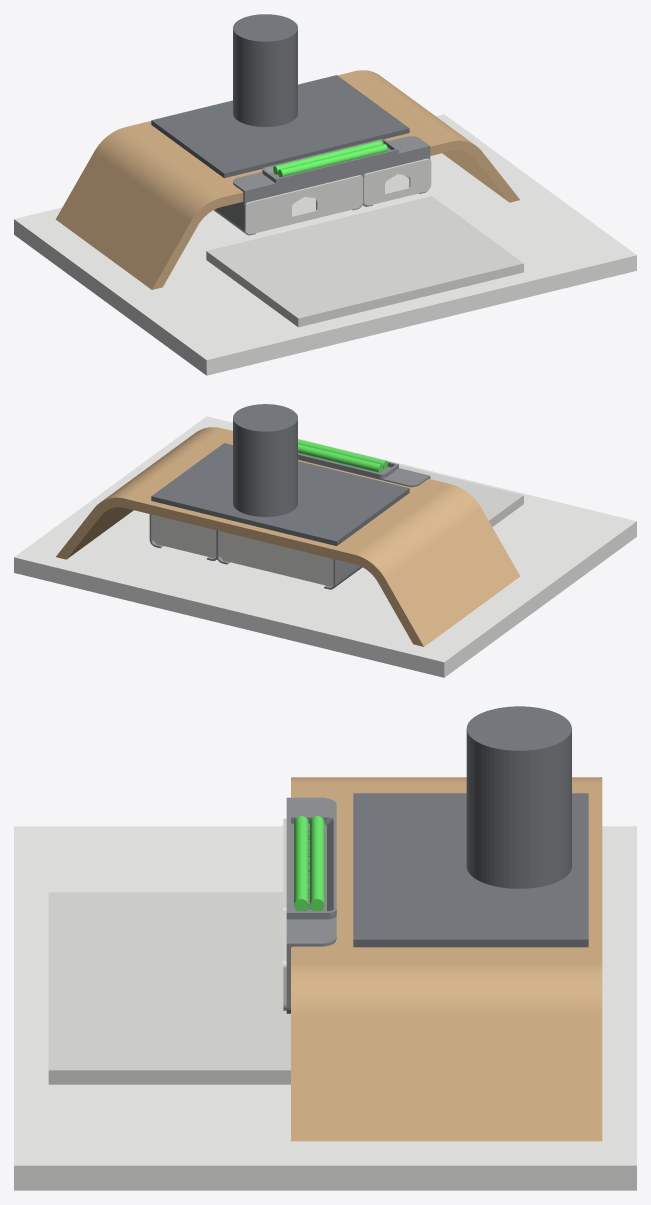
The model's file is larc_hq_cerrada.glb.
The picture shows the model from 3 angles, top to bottom: view 1: azimuth 30°, elevation 25°; view 2: azimuth 150°, elevation 25°; view 3: azimuth 270°, elevation 25°; orthographic projection. The views are drawn at different scales.
Visible parts, largest first — view 1: larc_hq_cerrada.glb_1, larc_hq_cerrada.glb_2, larc_hq_cerrada.glb_0, larc_hq_cerrada.glb_3, larc_hq_cerrada.glb_4, larc_hq_cerrada.glb_5, larc_hq_cerrada.glb_6, larc_hq_cerrada.glb_7, larc_hq_cerrada.glb_8, larc_hq_cerrada.glb_9; view 2: larc_hq_cerrada.glb_1, larc_hq_cerrada.glb_0, larc_hq_cerrada.glb_3, larc_hq_cerrada.glb_4, larc_hq_cerrada.glb_6, larc_hq_cerrada.glb_5, larc_hq_cerrada.glb_7, larc_hq_cerrada.glb_2, larc_hq_cerrada.glb_9, larc_hq_cerrada.glb_8; view 3: larc_hq_cerrada.glb_1, larc_hq_cerrada.glb_0, larc_hq_cerrada.glb_2, larc_hq_cerrada.glb_3, larc_hq_cerrada.glb_4, larc_hq_cerrada.glb_5, larc_hq_cerrada.glb_8, larc_hq_cerrada.glb_9.
Boxes of the visible parts, <box> form: larc_hq_cerrada.glb_1: <box>14,114,636,375</box>; larc_hq_cerrada.glb_2: <box>206,196,523,327</box>; larc_hq_cerrada.glb_0: <box>55,70,519,289</box>; larc_hq_cerrada.glb_3: <box>151,75,409,178</box>; larc_hq_cerrada.glb_4: <box>233,14,297,126</box>; larc_hq_cerrada.glb_5: <box>213,136,430,235</box>; larc_hq_cerrada.glb_6: <box>244,175,363,234</box>; larc_hq_cerrada.glb_7: <box>363,158,431,205</box>; larc_hq_cerrada.glb_8: <box>278,144,387,177</box>; larc_hq_cerrada.glb_9: <box>273,140,382,174</box>; larc_hq_cerrada.glb_1: <box>14,416,636,677</box>; larc_hq_cerrada.glb_0: <box>56,427,520,646</box>; larc_hq_cerrada.glb_3: <box>151,443,409,545</box>; larc_hq_cerrada.glb_4: <box>233,404,297,516</box>; larc_hq_cerrada.glb_6: <box>219,531,333,586</box>; larc_hq_cerrada.glb_5: <box>149,453,430,589</box>; larc_hq_cerrada.glb_7: <box>152,515,216,557</box>; larc_hq_cerrada.glb_2: <box>399,465,523,526</box>; larc_hq_cerrada.glb_9: <box>298,444,382,472</box>; larc_hq_cerrada.glb_8: <box>298,439,387,469</box>; larc_hq_cerrada.glb_1: <box>14,826,636,1190</box>; larc_hq_cerrada.glb_0: <box>291,777,602,1141</box>; larc_hq_cerrada.glb_2: <box>48,892,290,1084</box>; larc_hq_cerrada.glb_3: <box>353,793,588,947</box>; larc_hq_cerrada.glb_4: <box>466,706,571,888</box>; larc_hq_cerrada.glb_5: <box>286,797,336,1013</box>; larc_hq_cerrada.glb_8: <box>294,816,308,911</box>; larc_hq_cerrada.glb_9: <box>310,816,324,911</box>.
Size of the model in its own units: 0.58 by 0.233 by 0.45.
